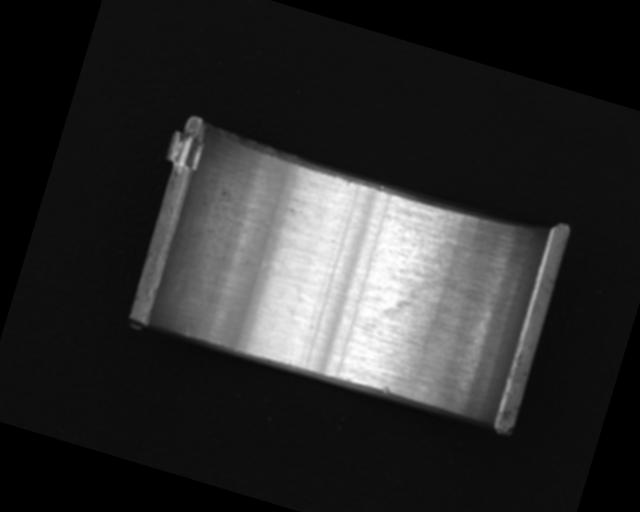bruise: (380, 383, 394, 396)
